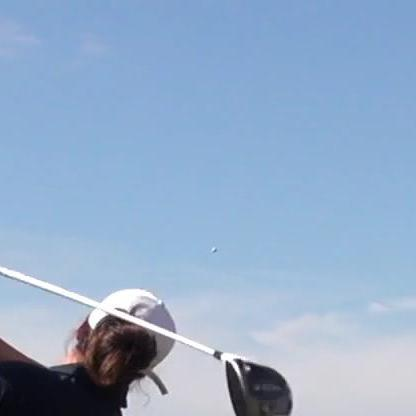golfball: (208, 245, 216, 252)
